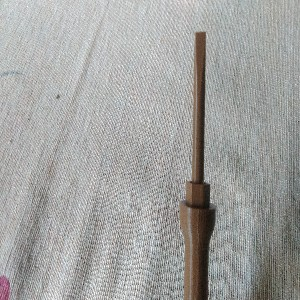obeng: (179, 29, 217, 300)
